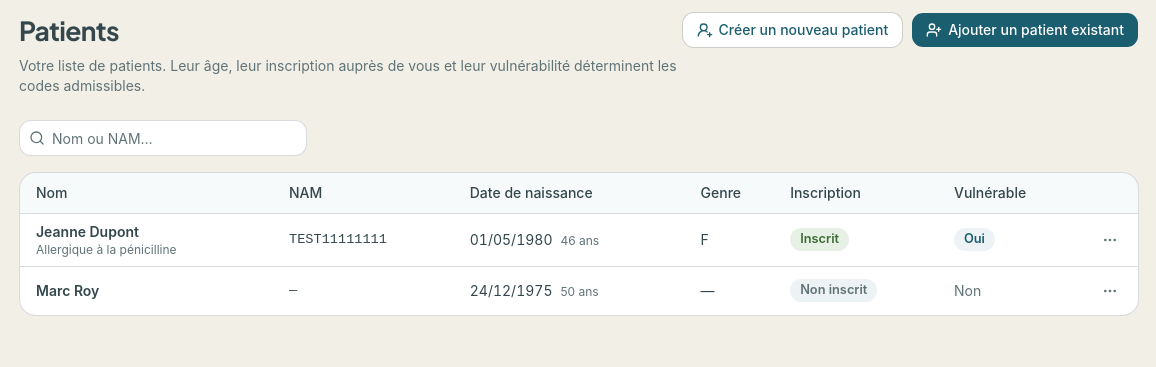
the roster › searches the list by name or NAM, ignoring accents
This screenshot has width=1156, height=367.
expect the text "Jeanne Dupont" is shown: met, box [36,222,139,240]
Type "tést1111" into the field named "Rechercher un patient" at (163, 138), box [19,120,307,156]
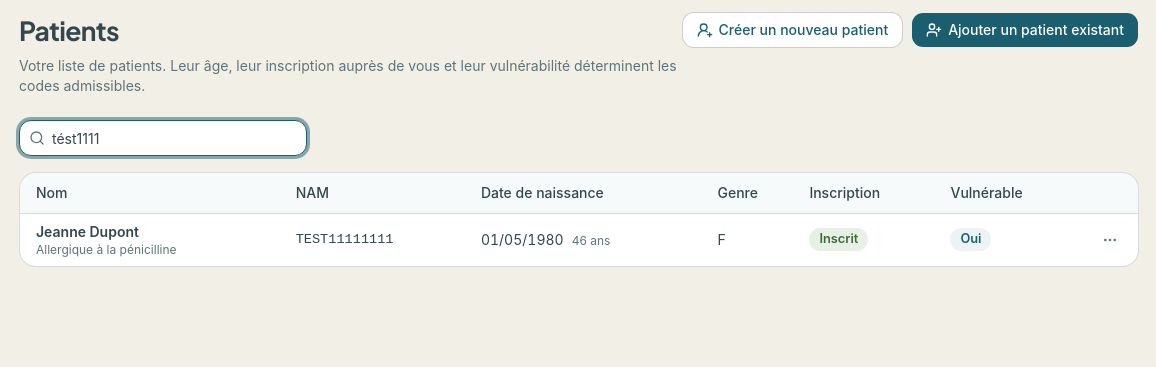
expect the text "Jeanne Dupont" is shown: met, box [36,222,139,240]
expect the text "Marc Roy" is gone: met
Replace the text in the field named "Rechercher un patient" with "zzz" at (163, 138), box [19,120,307,156]
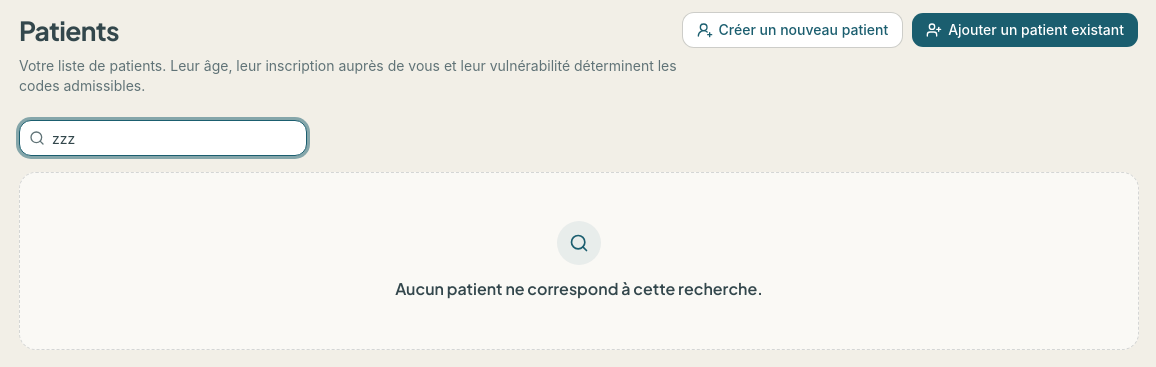
expect the text "Aucun patient ne correspond à cette recherche." is shown: met, box [395,277,763,301]
